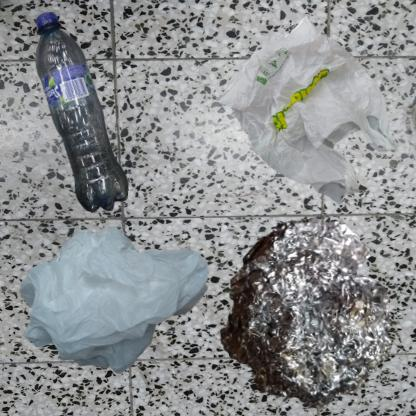aluminio: (213, 213, 396, 416)
bolsa: (10, 213, 229, 392), (213, 10, 400, 209)
botella: (10, 10, 159, 229)
